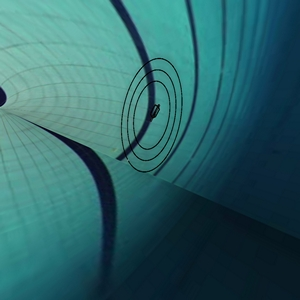circle: (106, 45, 197, 184)
submarine: (144, 100, 165, 129)
